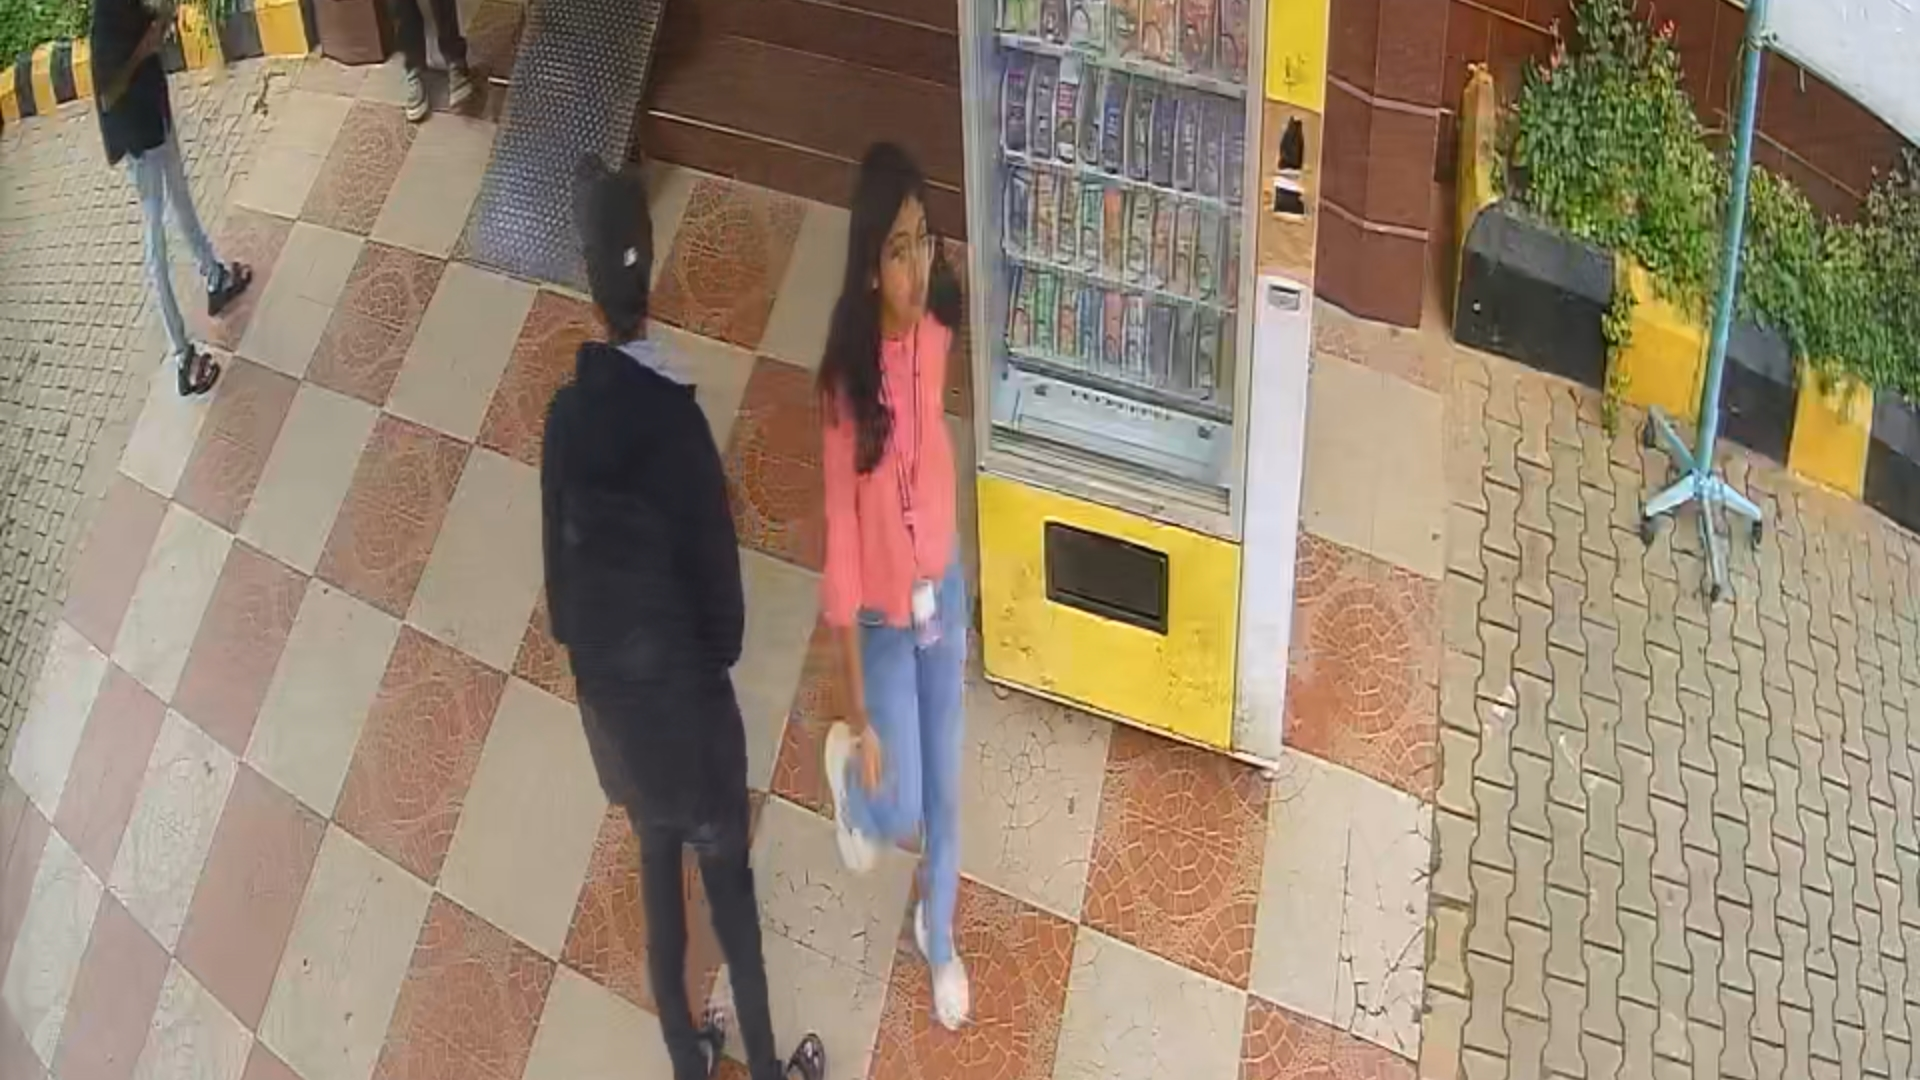not intruder: (815, 137, 1023, 990)
